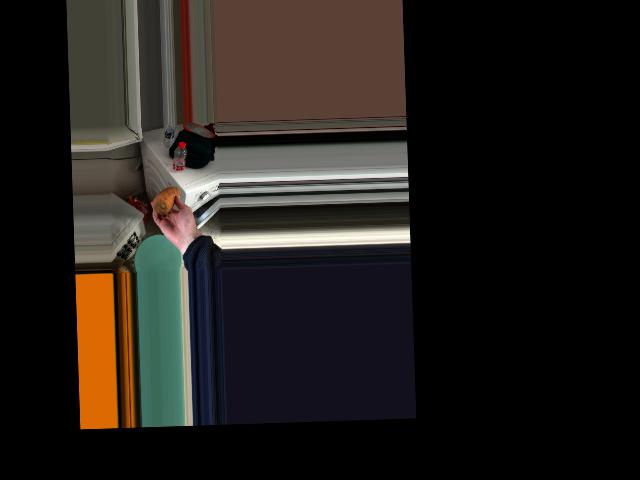sweet_potato: (155, 186, 183, 218)
